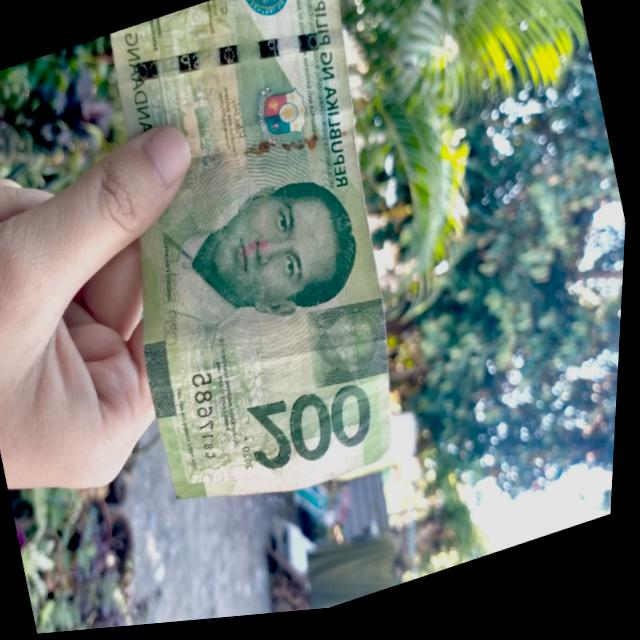concealed_value: (304, 294, 404, 401)
security_thread: (115, 0, 344, 119)
serial_number: (188, 370, 240, 472)
value: (244, 368, 387, 486)
